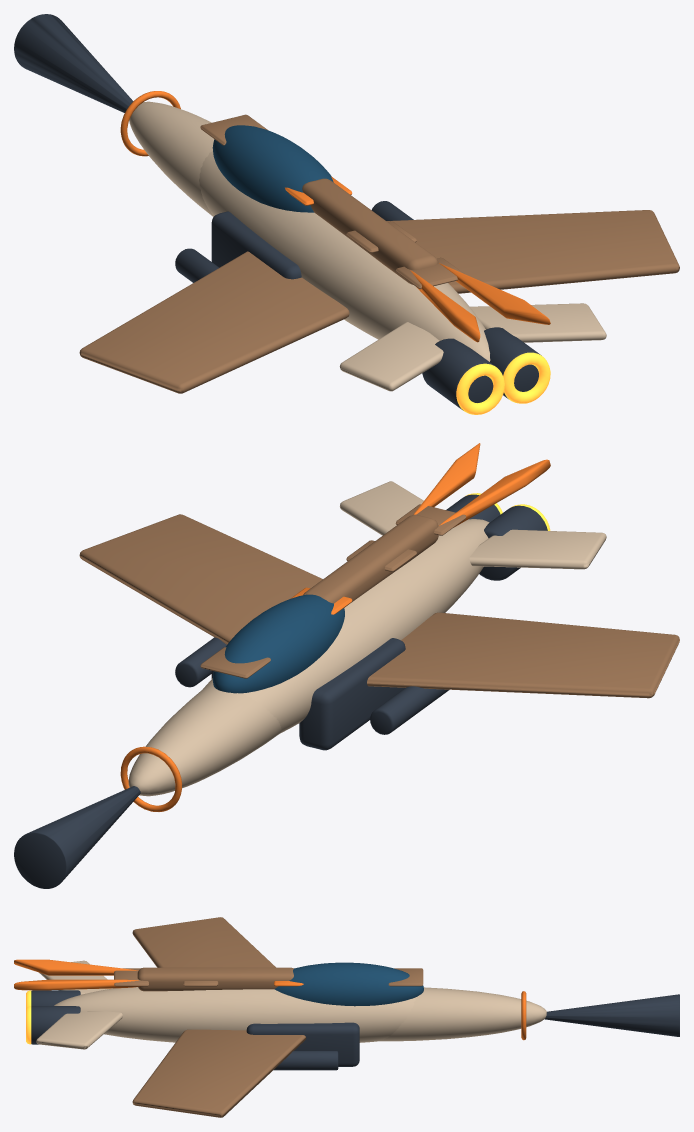
File: enemy_interceptor.glb
The picture shows the model from 3 angles, top to bottom: view 1: azimuth 30°, elevation 25°; view 2: azimuth 150°, elevation 25°; view 3: azimuth 270°, elevation 25°; orthographic projection. The views are drawn at different scales.
Parts seen in each view (by area): view 1: ASSET_enemy_interceptor; view 2: ASSET_enemy_interceptor; view 3: ASSET_enemy_interceptor.
Part boxes in pixels (x1,y1,x2,y2): ASSET_enemy_interceptor: (14,14,679,414); ASSET_enemy_interceptor: (14,443,679,888); ASSET_enemy_interceptor: (14,917,679,1117).
Bounding box in the file's own units: 4.77 × 0.9392 × 6.83.
